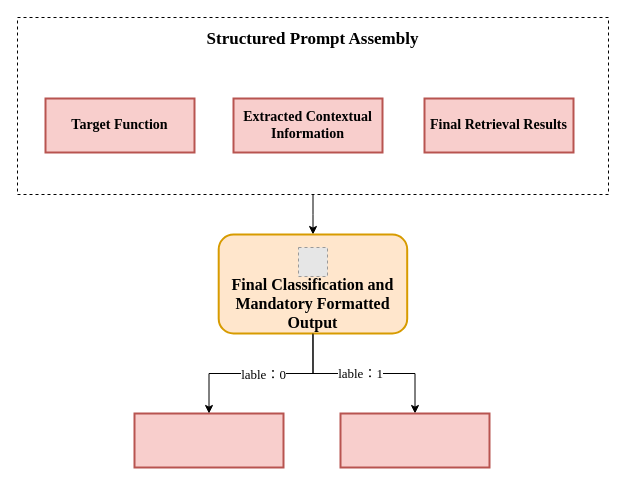
Image size: 626x486. Some labels were removed from this diagram. Grey dashed boxes stand in for pictures. The centre of each missing label's shape, as x and y in pixels:
Non-Vulnerable: point (208, 440)
Vulnerable: point (414, 440)
